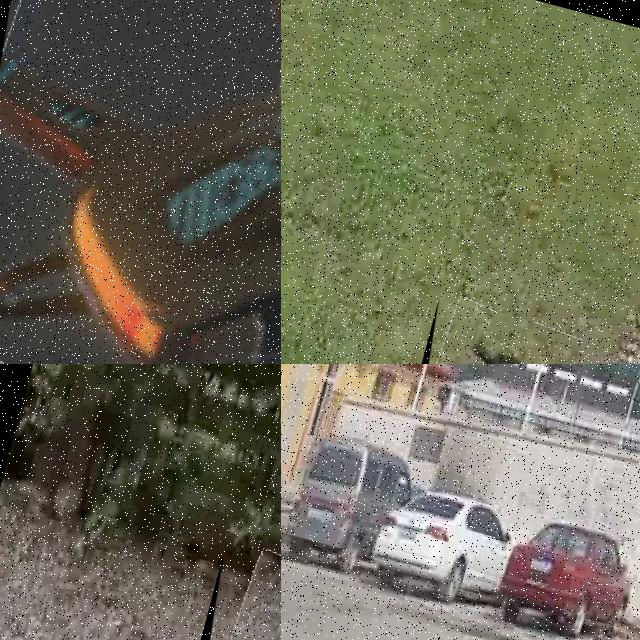drone: (0, 0, 281, 364), (397, 296, 583, 364)
